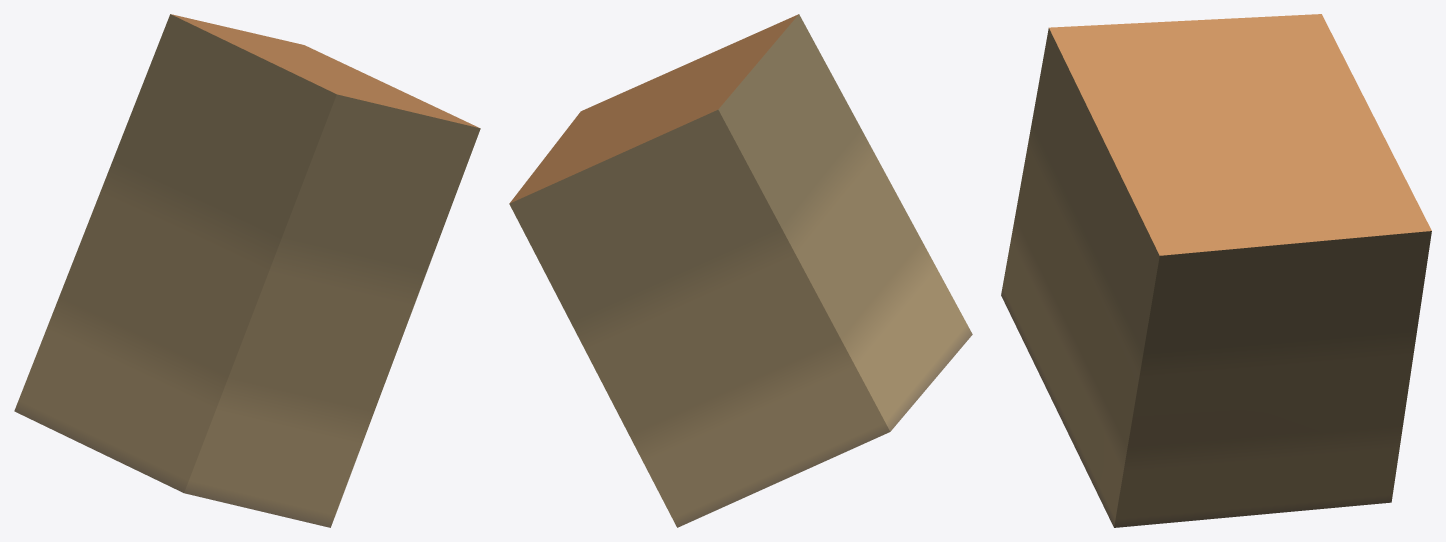
File: 0667_Rwanda.glb
3 renders of one model, left to right at view 1: azimuth 30°, elevation 25°; view 2: azimuth 150°, elevation 25°; view 3: azimuth 270°, elevation 25°, orthographic. The views are drawn at different scales.
Visible parts, largest first — view 1: part_0; view 2: part_0; view 3: part_0.
Part boxes in pixels (left/top/right/bottom): part_0: left=14, top=14, right=480, bottom=527; part_0: left=509, top=14, right=972, bottom=527; part_0: left=1001, top=14, right=1431, bottom=527.
Size of the model in its own units: 0.2211 by 0.2382 by 0.1908.
1 material, 1 textured.
